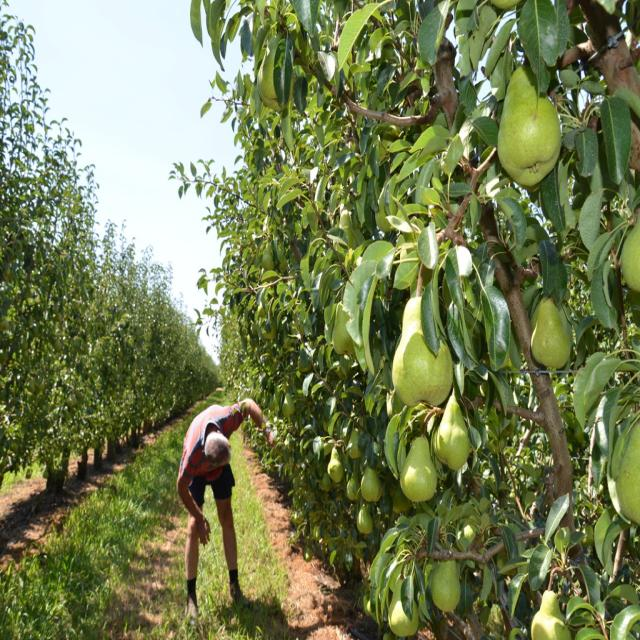pear: (497, 66, 562, 186), (392, 298, 448, 410), (604, 408, 638, 527), (529, 301, 570, 378), (398, 434, 436, 506), (433, 398, 469, 470), (384, 577, 420, 637), (428, 558, 461, 614), (528, 590, 564, 639), (620, 215, 638, 302), (460, 519, 488, 566), (358, 466, 383, 502), (327, 448, 340, 484), (357, 508, 375, 533), (342, 474, 356, 504), (348, 431, 360, 458)
